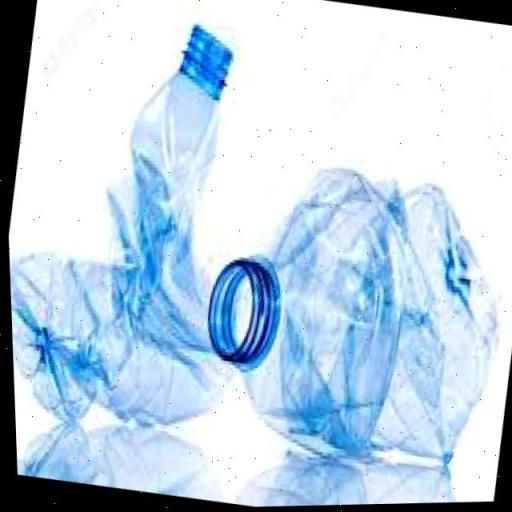plastic: (0, 0, 282, 441), (181, 137, 512, 494)
